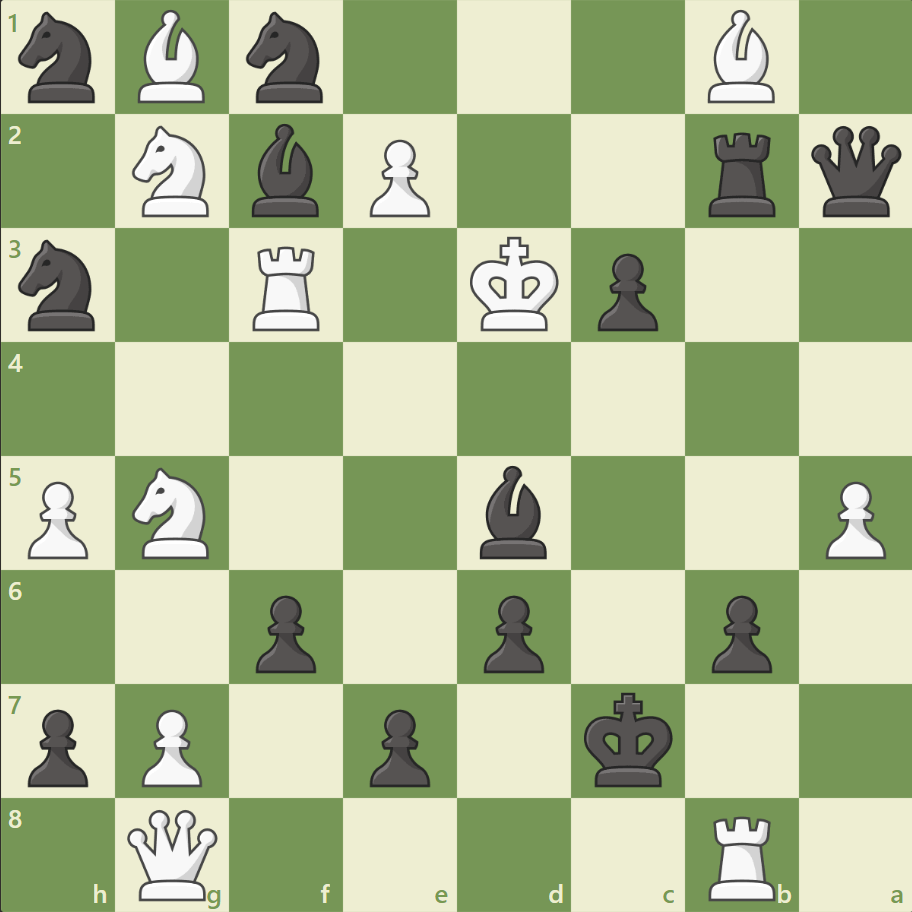B: (698, 6, 782, 109), (131, 6, 215, 109)
K: (465, 231, 565, 339)
N: (124, 461, 222, 564), (124, 121, 222, 223)
P: (133, 700, 208, 791), (20, 473, 95, 564), (815, 473, 889, 564), (361, 132, 435, 223)
Q: (124, 804, 223, 903)
R: (700, 806, 783, 904), (246, 239, 329, 336)
b: (471, 460, 555, 563), (244, 120, 328, 222)
k: (579, 685, 679, 793)
n: (11, 234, 108, 337), (238, 7, 335, 110), (11, 7, 108, 110)
p: (20, 700, 95, 791), (701, 586, 776, 677), (474, 586, 549, 677), (247, 586, 322, 677), (361, 700, 435, 791), (588, 246, 662, 337)
q: (805, 122, 904, 222)
r: (700, 125, 783, 222)
